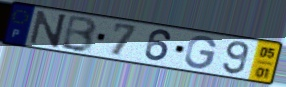6: (144, 28, 173, 64)
7: (111, 22, 138, 59)
9: (222, 40, 251, 76)
B: (59, 14, 99, 54)
G: (183, 35, 219, 70)
N: (27, 9, 69, 49)
